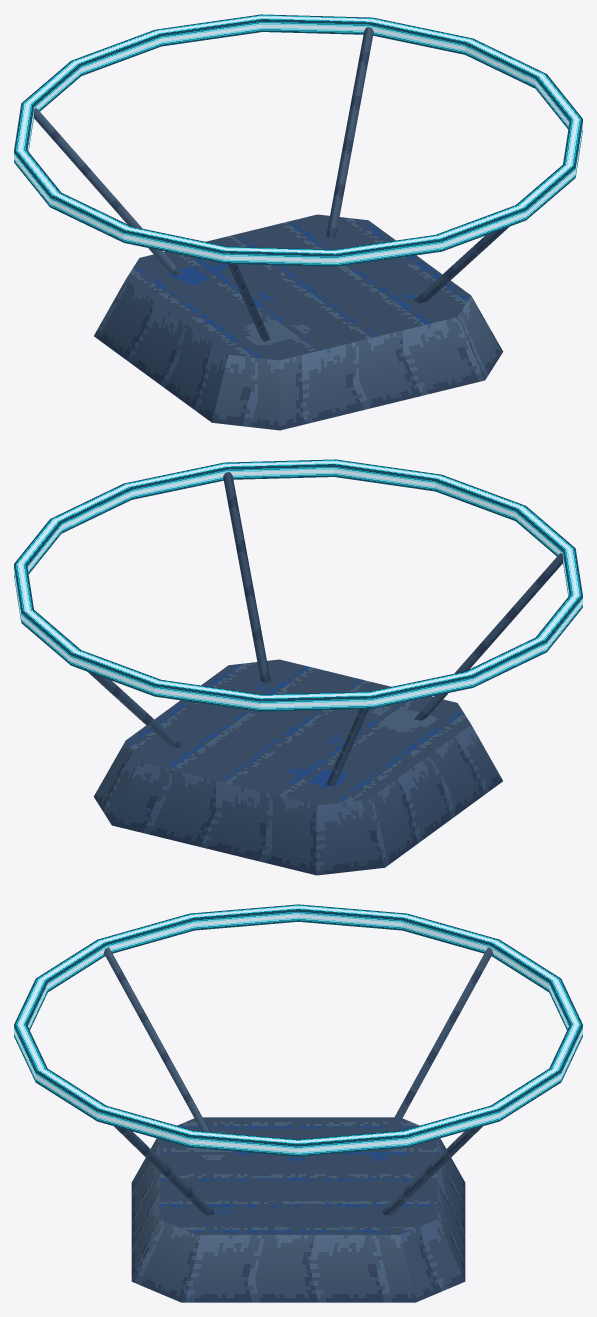
The model's file is cytower.crown.glb.
3 views of the same model, one above another, from view 1: azimuth 30°, elevation 25°; view 2: azimuth 150°, elevation 25°; view 3: azimuth 270°, elevation 25° (orthographic).
Parts seen in each view (by area): view 1: kit_plinth, kit_halo; view 2: kit_plinth, kit_halo; view 3: kit_plinth, kit_halo.
Boxes of the visible parts, <box> form: kit_plinth: <box>33,27,509,430</box>; kit_halo: <box>14,14,582,266</box>; kit_plinth: <box>87,472,563,875</box>; kit_halo: <box>14,459,582,711</box>; kit_plinth: <box>104,947,492,1302</box>; kit_halo: <box>14,904,582,1156</box>.
Bounding box in the file's own units: 9.21 × 3.71 × 9.21.
4 materials, 4 textured.
